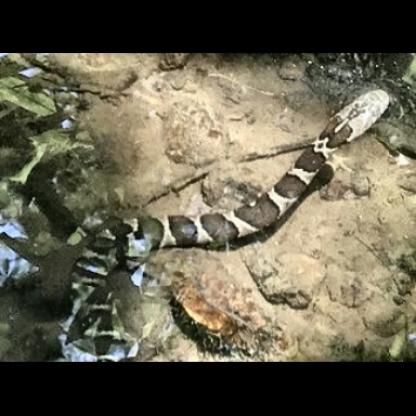Snake: (61, 86, 389, 341)
